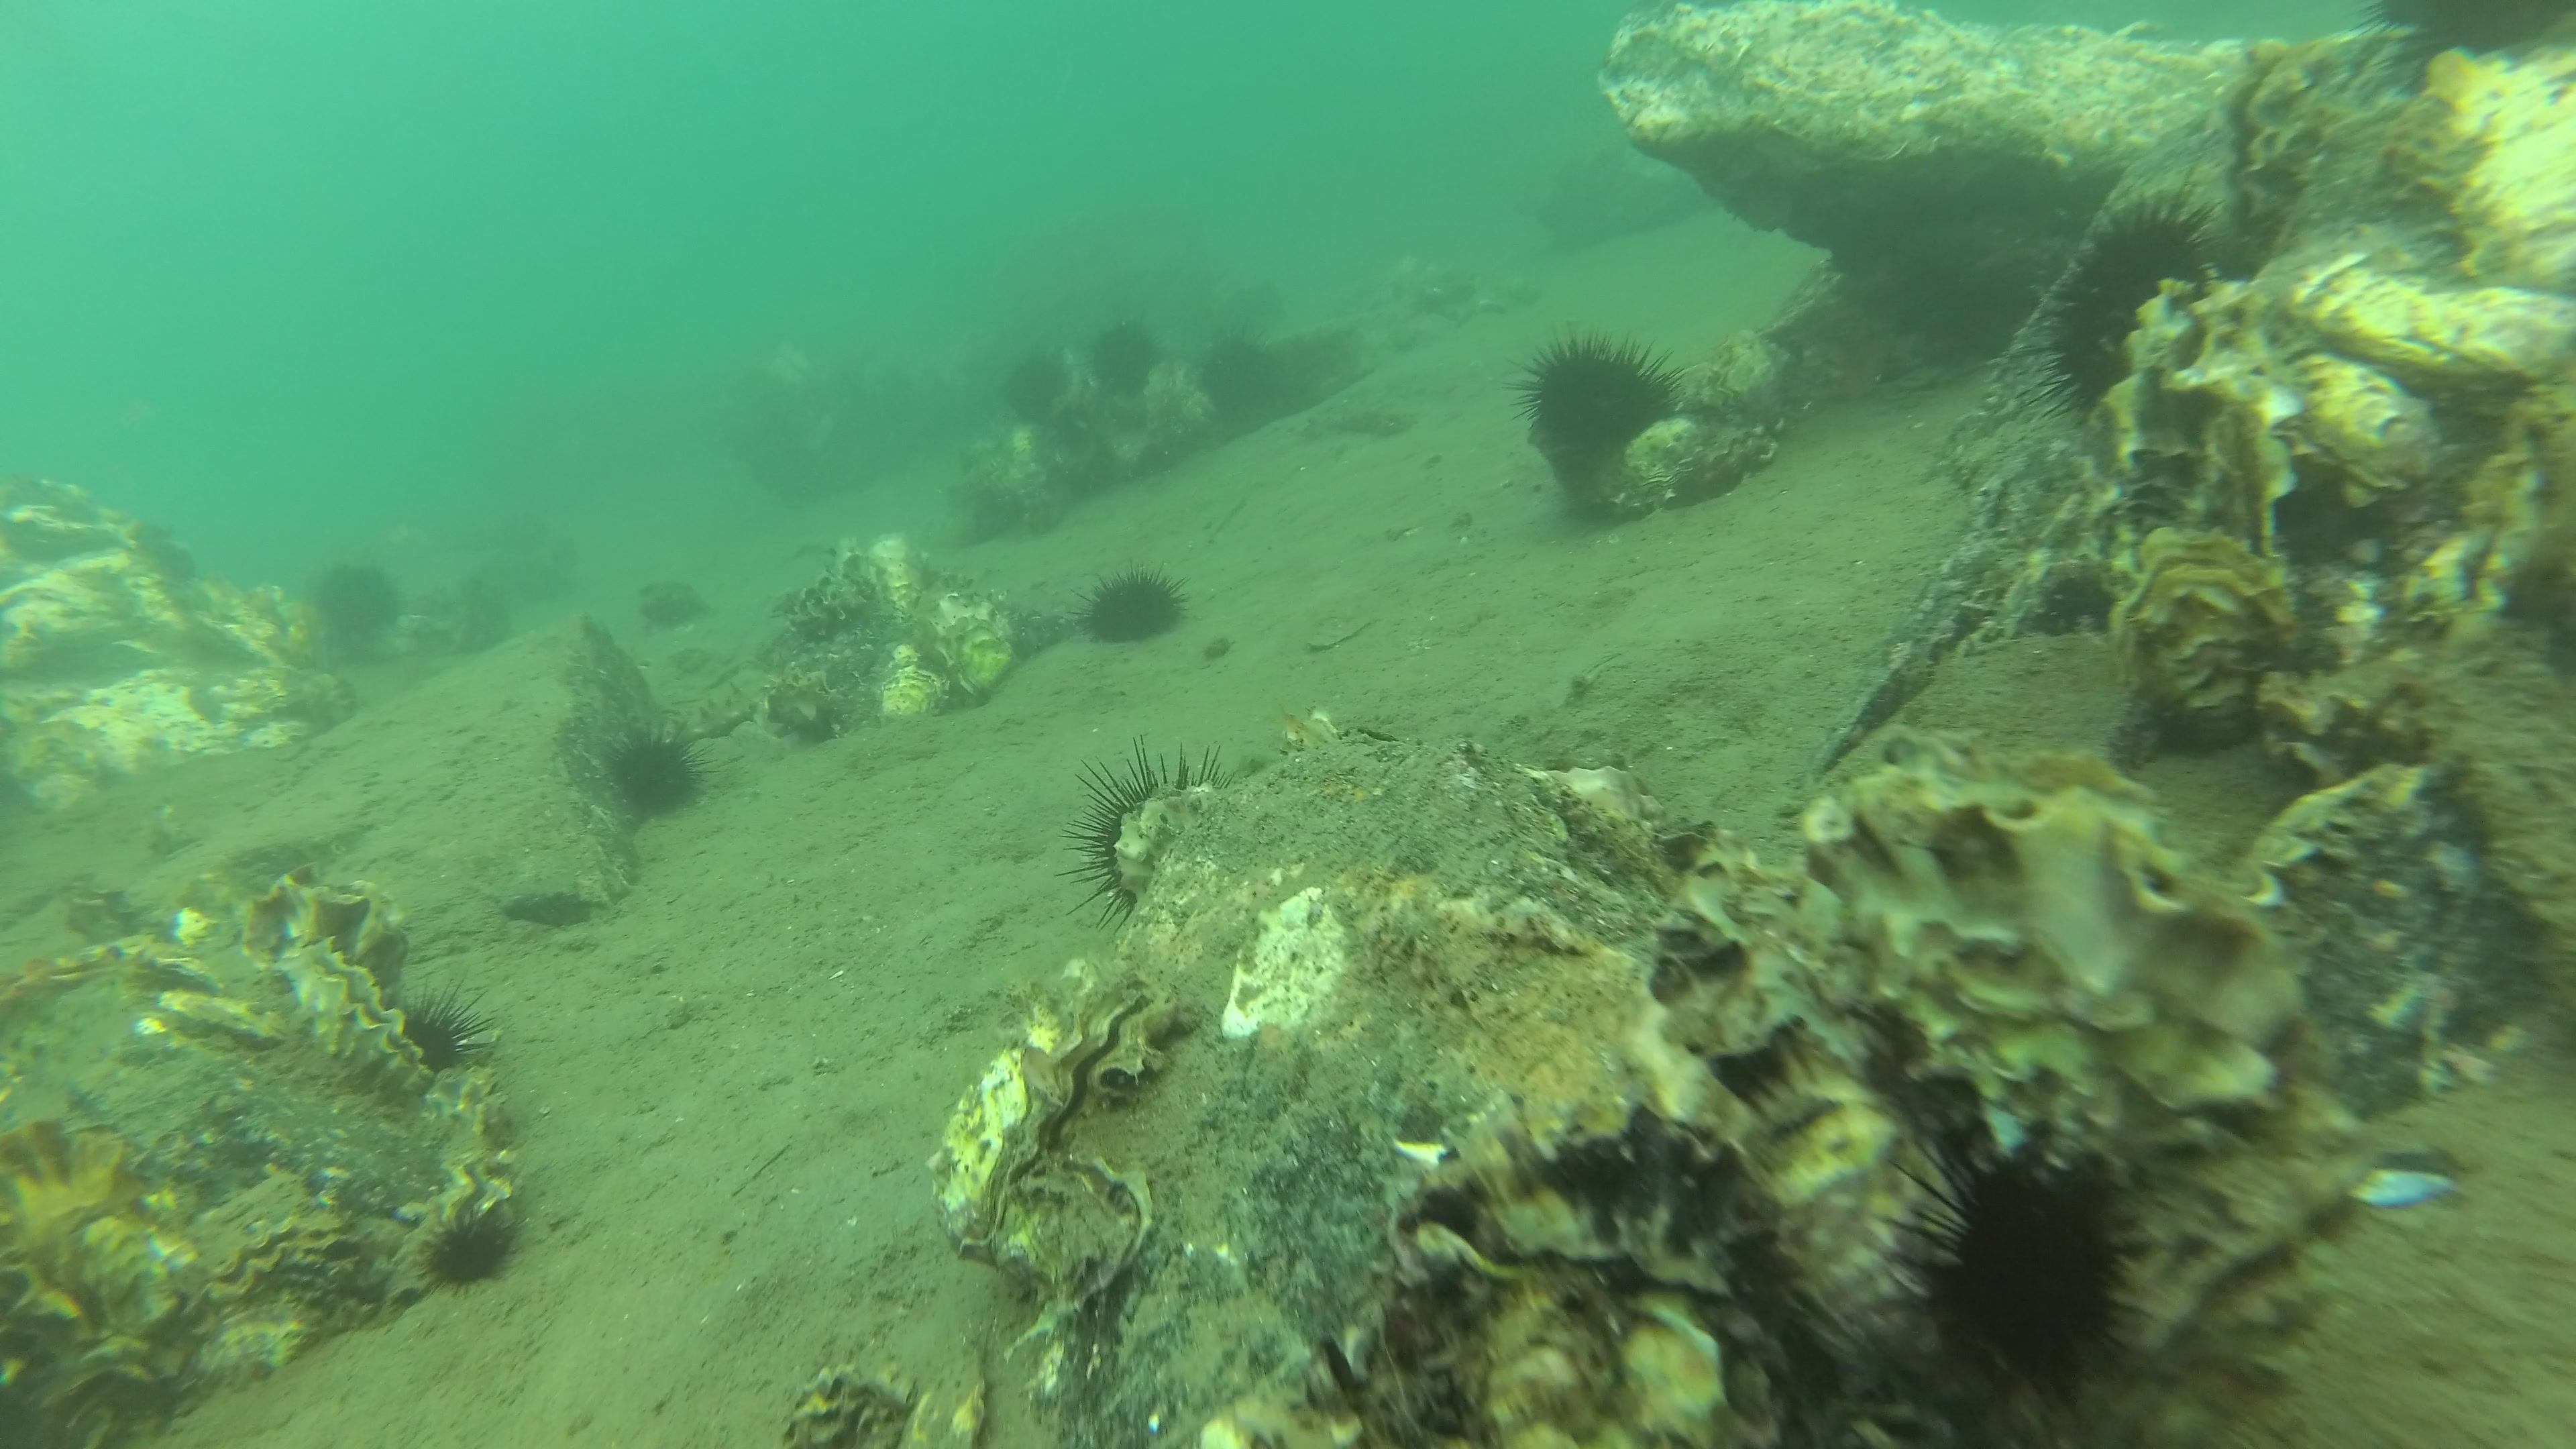echinus: (1882, 1125, 2146, 1414), (2005, 159, 2233, 430), (1053, 734, 1235, 936), (1502, 320, 1691, 449), (2346, 0, 2576, 94), (602, 717, 724, 819), (1069, 557, 1192, 644), (416, 1201, 517, 1299), (400, 977, 497, 1074), (315, 557, 405, 639), (1200, 326, 1270, 410), (1085, 322, 1168, 393), (1005, 352, 1074, 423), (1051, 403, 1095, 453)
